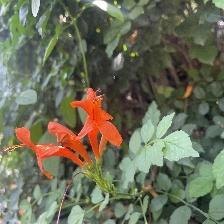honeysuckle: (74, 85, 126, 169)
